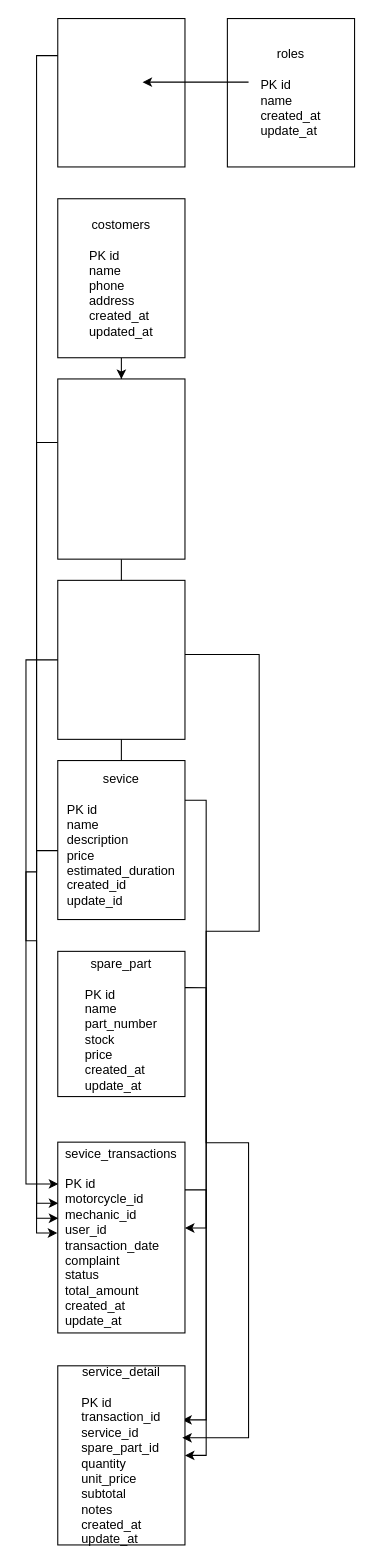
Image size: 373x1566. Some labels were removed from this diagram. Here are the shapes that lost their labels. From the top down, the centre of each, then its label:
pixel 121 92: users PK id role_id name email pasword created_at update_at
pixel 121 468: motorcycles PK id costomers plate_number brand model year created_at update
pixel 121 659: mechanics PK id name phone specialization created_at update_at
